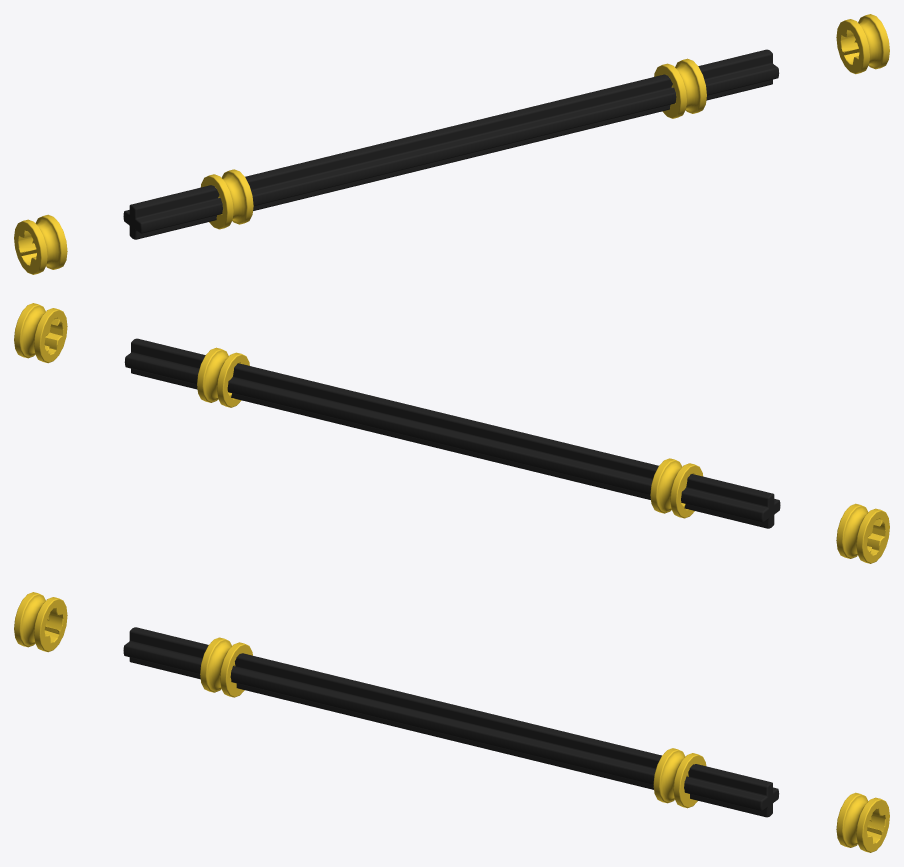
File: backpiece.glb
3 renders of one model, top to bottom at view 1: azimuth 30°, elevation 25°; view 2: azimuth 150°, elevation 25°; view 3: azimuth 330°, elevation 25°, orthographic.
Parts seen in each view (by area): view 1: 00001_3708.dat, 00004_32123a.dat, 00005_32123a.dat, 00002_32123a.dat, 00003_32123a.dat; view 2: 00001_3708.dat, 00004_32123a.dat, 00005_32123a.dat, 00002_32123a.dat, 00003_32123a.dat; view 3: 00001_3708.dat, 00004_32123a.dat, 00005_32123a.dat, 00002_32123a.dat, 00003_32123a.dat.
Part boxes in pixels (x1,y1,x2,y2): 00001_3708.dat: [123, 49, 779, 239]; 00004_32123a.dat: [14, 214, 67, 274]; 00005_32123a.dat: [836, 14, 889, 74]; 00002_32123a.dat: [200, 169, 253, 229]; 00003_32123a.dat: [654, 58, 706, 118]; 00001_3708.dat: [124, 338, 780, 528]; 00004_32123a.dat: [836, 503, 889, 563]; 00005_32123a.dat: [14, 303, 67, 363]; 00002_32123a.dat: [650, 458, 703, 518]; 00003_32123a.dat: [197, 347, 249, 407]; 00001_3708.dat: [123, 627, 779, 817]; 00004_32123a.dat: [14, 592, 67, 652]; 00005_32123a.dat: [836, 792, 889, 852]; 00002_32123a.dat: [200, 637, 252, 697]; 00003_32123a.dat: [653, 748, 706, 808].
Bounding box in the file's own units: 12.77 × 0.72 × 0.72.
